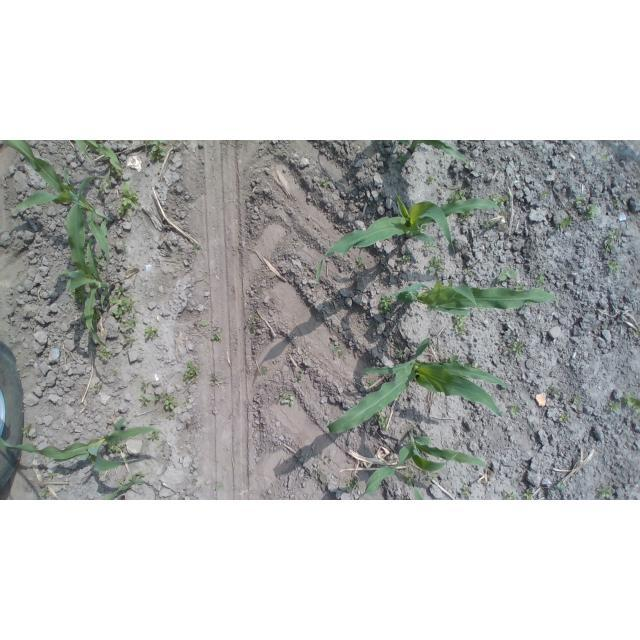Maize: (310, 188, 505, 290), (322, 335, 515, 436), (1, 140, 123, 281), (0, 415, 164, 499), (355, 425, 493, 500), (59, 239, 118, 376), (392, 274, 560, 319), (390, 140, 477, 170), (71, 141, 135, 174)
Weeds: (108, 286, 137, 319), (115, 183, 142, 218), (575, 196, 602, 221), (488, 193, 513, 220), (117, 470, 147, 490), (451, 311, 472, 338), (621, 389, 640, 417), (374, 409, 393, 435), (146, 141, 169, 160), (603, 229, 618, 256), (495, 267, 517, 285), (181, 360, 199, 381), (103, 441, 129, 455), (602, 398, 622, 416), (343, 474, 361, 493), (247, 316, 265, 334), (70, 286, 86, 306), (142, 325, 160, 342), (426, 257, 442, 276), (510, 338, 526, 356), (556, 216, 574, 232), (329, 342, 344, 361), (378, 293, 393, 311), (281, 390, 296, 408), (602, 259, 621, 273), (506, 402, 522, 418), (163, 395, 178, 412), (95, 181, 110, 198), (447, 191, 465, 205), (546, 384, 561, 400), (398, 252, 414, 267), (122, 335, 138, 350), (99, 347, 114, 363), (22, 421, 37, 437), (146, 428, 163, 442), (598, 485, 615, 499), (534, 271, 547, 289), (122, 317, 136, 332), (211, 327, 224, 343), (499, 489, 517, 500), (35, 486, 49, 500), (140, 378, 153, 393), (459, 488, 475, 500), (446, 354, 462, 366), (513, 281, 530, 292), (556, 412, 570, 425), (395, 348, 410, 360), (139, 395, 151, 409), (522, 488, 536, 500), (366, 378, 380, 390), (543, 187, 557, 199), (610, 197, 623, 209), (190, 243, 203, 255), (320, 177, 332, 189), (570, 391, 580, 405), (459, 208, 473, 218), (93, 383, 103, 396), (464, 268, 475, 279), (404, 475, 416, 485), (152, 391, 164, 401), (555, 481, 566, 491), (355, 257, 366, 267), (292, 374, 304, 383), (215, 484, 228, 492), (600, 154, 611, 163), (429, 173, 436, 186), (397, 155, 405, 166), (184, 396, 191, 408), (430, 474, 439, 482), (198, 321, 210, 327), (167, 413, 177, 420)
